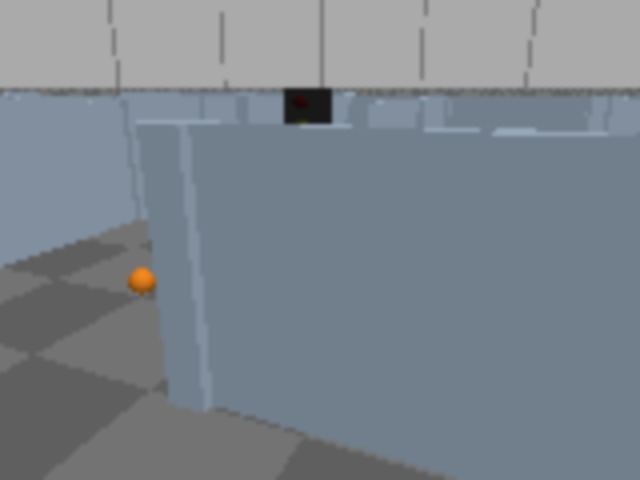puck: (121, 263, 162, 301)
